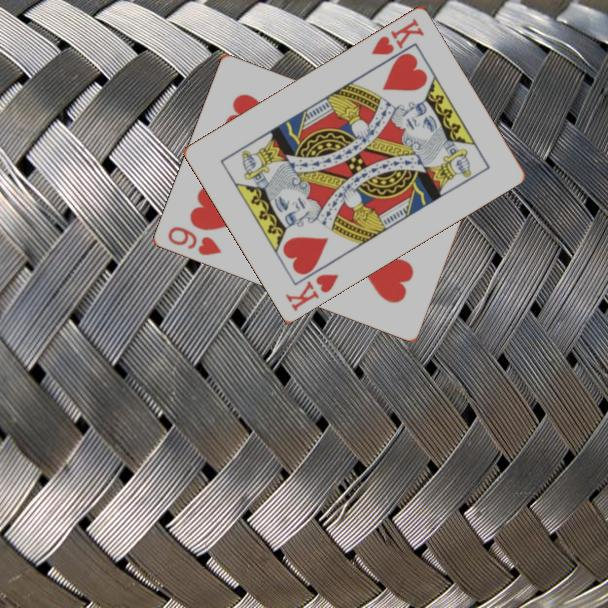h09: (165, 223, 225, 258)
h13: (367, 14, 427, 58), (282, 270, 342, 314)
